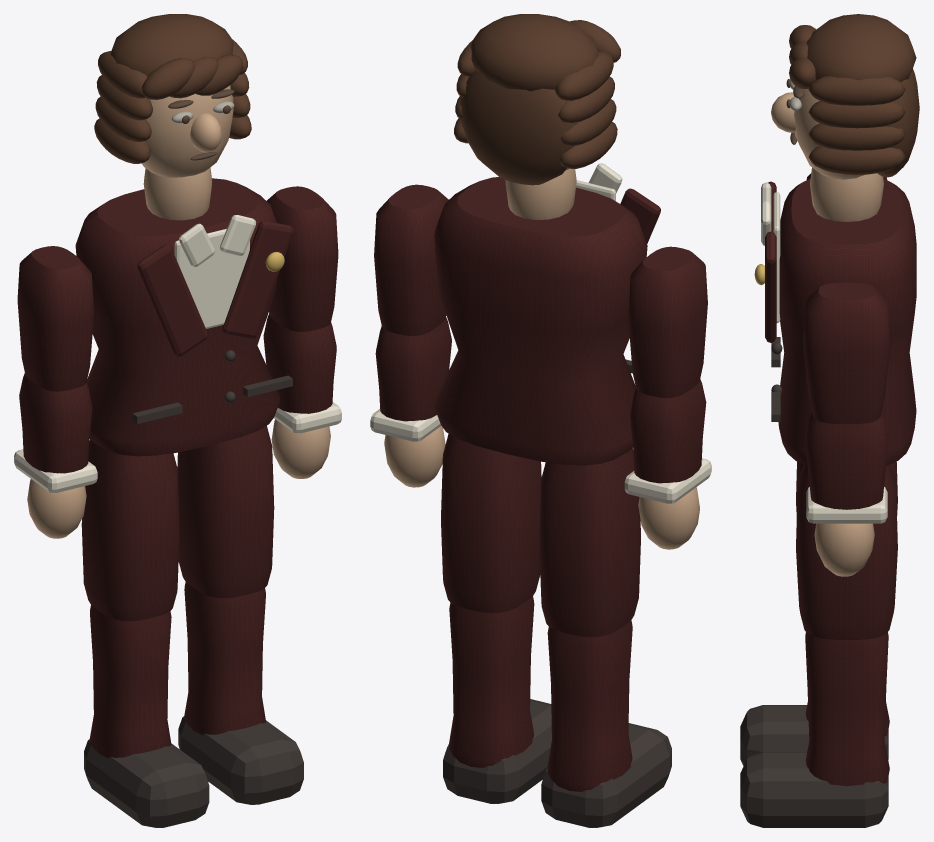
File: woman.glb
3 renders of one model, left to right at view 1: azimuth 30°, elevation 25°; view 2: azimuth 150°, elevation 25°; view 3: azimuth 270°, elevation 25°, orthographic. The views are drawn at different scales.
Visible parts, largest first — view 1: jacket, trouser upper, swept hair crown, trouser upper.001, trouser lower.001, trouser lower, jacket upper sleeve, neck, jacket upper sleeve.001, shoe, shoe.001, jacket forearm (+7 smaller); view 2: jacket, swept hair crown, trouser upper, trouser upper.001, trouser lower, trouser lower.001, jacket upper sleeve, jacket upper sleeve.001, shoe, jacket forearm, jacket forearm.001, shoe.001 (+6 smaller); view 3: jacket, swept hair crown, trouser lower.001, jacket upper sleeve.001, trouser upper.001, shoe.001, jacket forearm.001, neck, shoe, hand.001, shirt cuff.001, shirt front (+1 smaller).
Part boxes in pixels (x1,y1,x2,y2): jacket: (75,178,293,456); trouser upper: (81,440,179,621); swept hair crown: (94,14,251,163); trouser upper.001: (177,425,274,598); trouser lower.001: (184,582,265,735); trouser lower: (89,605,171,758); jacket upper sleeve: (17,246,93,391); neck: (141,85,233,220); jacket upper sleeve.001: (267,186,338,331); shoe: (84,739,209,827); shoe.001: (178,716,303,804); jacket forearm: (19,373,92,473); jacket: (434,177,660,465); swept hair crown: (454,14,620,185); trouser upper: (539,448,640,637); trouser upper.001: (441,433,541,613); trouser lower: (547,620,632,791); trouser lower.001: (449,596,534,767); jacket upper sleeve: (628,246,707,398); jacket upper sleeve.001: (374,184,448,336); shoe: (541,723,671,827); jacket forearm: (630,379,706,483); jacket forearm.001: (375,317,451,421); shoe.001: (443,699,551,803); jacket: (765,178,916,465); swept hair crown: (789,14,919,177); trouser lower.001: (805,632,889,786); jacket upper sleeve.001: (803,282,890,424); trouser upper.001: (796,464,897,639); shoe.001: (740,752,888,827); jacket forearm.001: (805,411,888,509); neck: (771,85,883,221); shoe: (740,705,888,765); hand.001: (814,523,874,576); shirt cuff.001: (806,487,887,523); shirt front: (761,182,780,322).
Size of the model in its own units: 0.76 by 1.83 by 0.387.
8 materials, 1 textured.
